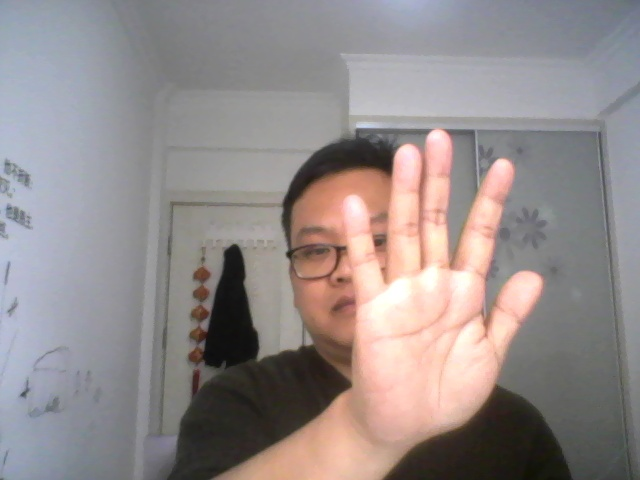Hello: (336, 126, 545, 444)
